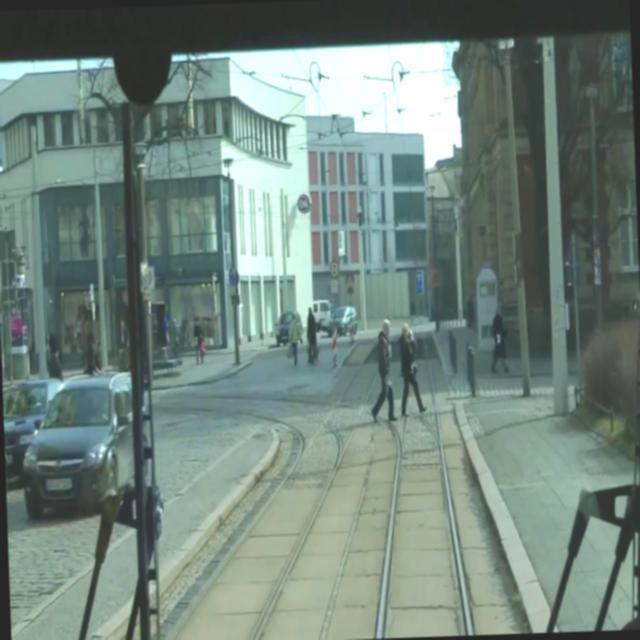rail: (153, 322, 507, 640)
